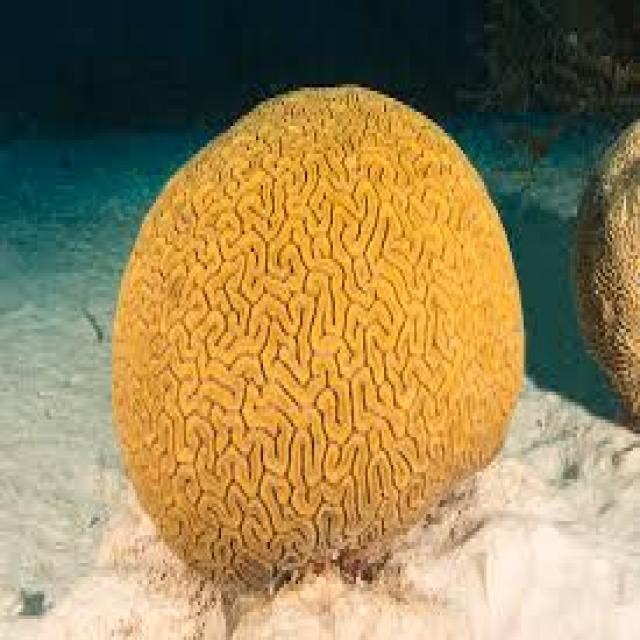Coral: (111, 85, 526, 588), (569, 122, 640, 410)
